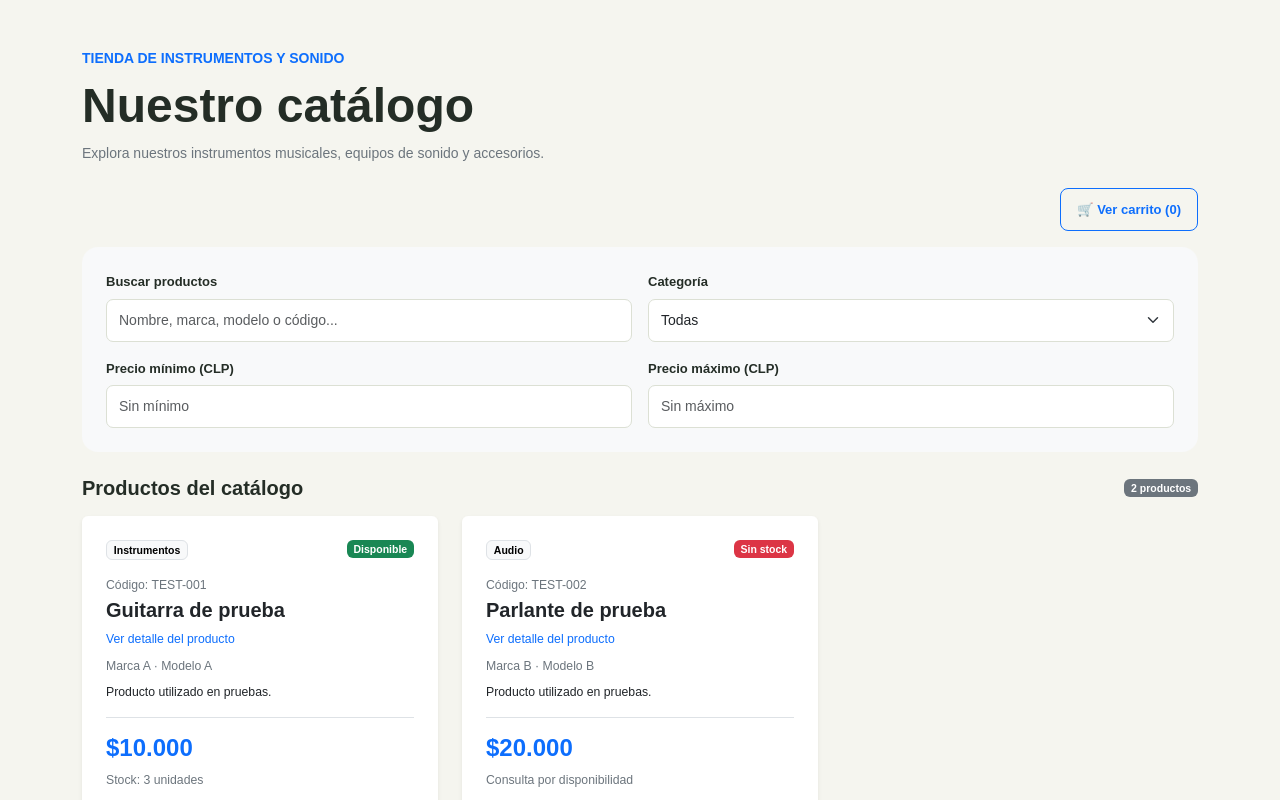
Scenario: CatalogoPage › muestra un mensaje cuando no hay resultados
In the search field labelled "Buscar productos": (369, 320) [106,299,632,342], type "producto inexistente"
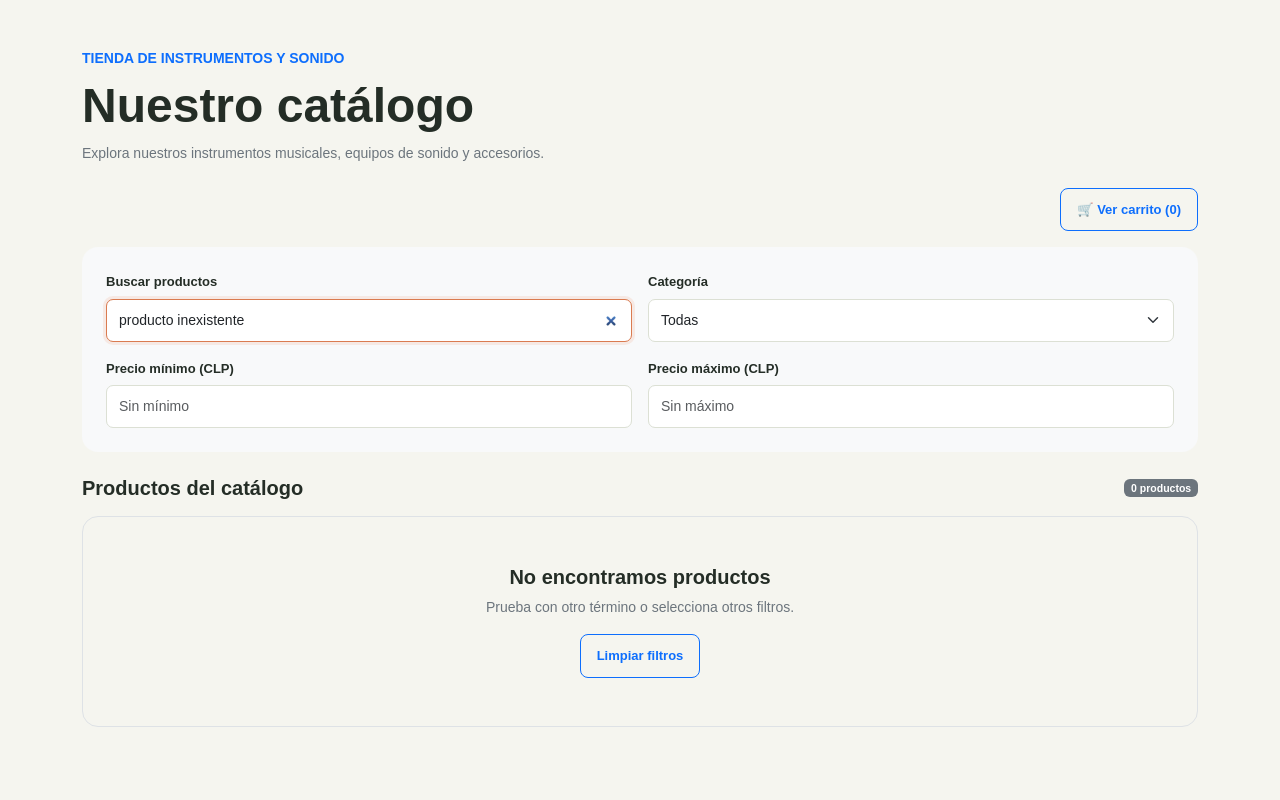
Expected: the heading "No encontramos productos" is shown, [509,566,770,588]
